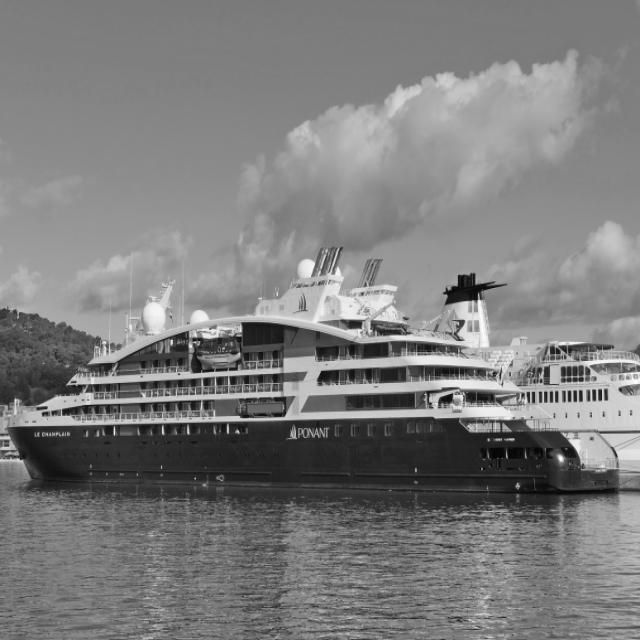cruises: (4, 243, 626, 502)
